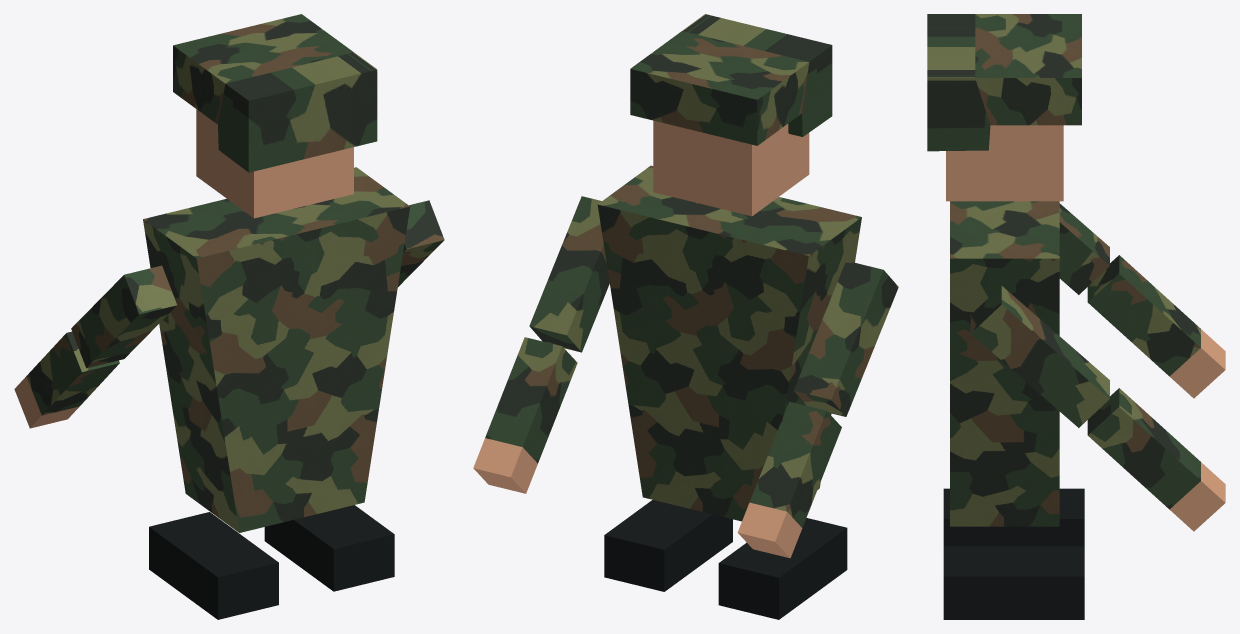
File: Ranger_before_desert_20261018_164541_224429.glb
3 renders of one model, left to right at view 1: azimuth 30°, elevation 25°; view 2: azimuth 150°, elevation 25°; view 3: azimuth 270°, elevation 25°, orthographic. The views are drawn at different scales.
Visible parts, largest first — view 1: body.002, hat.003, ShoeLeft.007, head.001, ShoeRight.006, armLeft.008, handLeft.009, armRight.004; view 2: body.002, hat.003, head.001, handLeft.009, handRight.005, armLeft.008, ShoeRight.006, ShoeLeft.007, armRight.004; view 3: body.002, hat.003, ShoeRight.006, armRight.004, handLeft.009, handRight.005, head.001, ShoeLeft.007, armLeft.008.
Part boxes in pixels (left/top/right/bottom): body.002: left=143, top=167, right=410, bottom=532; hat.003: left=173, top=14, right=377, bottom=172; ShoeLeft.007: left=149, top=512, right=278, bottom=619; head.001: left=196, top=109, right=353, bottom=218; ShoeRight.006: left=264, top=505, right=394, bottom=591; armLeft.008: left=71, top=265, right=176, bottom=368; handLeft.009: left=14, top=331, right=119, bottom=428; armRight.004: left=397, top=200, right=444, bottom=287; body.002: left=597, top=165, right=861, bottom=521; hat.003: left=630, top=14, right=832, bottom=145; head.001: left=653, top=120, right=809, bottom=216; handLeft.009: left=737, top=401, right=841, bottom=558; handRight.005: left=473, top=337, right=577, bottom=493; armLeft.008: left=794, top=260, right=898, bottom=416; ShoeRight.006: left=604, top=500, right=732, bottom=591; ShoeLeft.007: left=718, top=518, right=847, bottom=619; armRight.004: left=529, top=196, right=609, bottom=352; body.002: left=950, top=201, right=1059, bottom=526; hat.003: left=927, top=14, right=1081, bottom=151; ShoeRight.006: left=943, top=546, right=1084, bottom=619; armRight.004: left=970, top=286, right=1109, bottom=427; handLeft.009: left=1087, top=255, right=1225, bottom=398; handRight.005: left=1087, top=388, right=1225, bottom=531; head.001: left=946, top=125, right=1063, bottom=201; ShoeLeft.007: left=943, top=488, right=1084, bottom=546; armLeft.008: left=1059, top=203, right=1109, bottom=294.
Size of the model in its own units: 1.02 by 1.66 by 0.8455.
3 materials, 1 textured.
